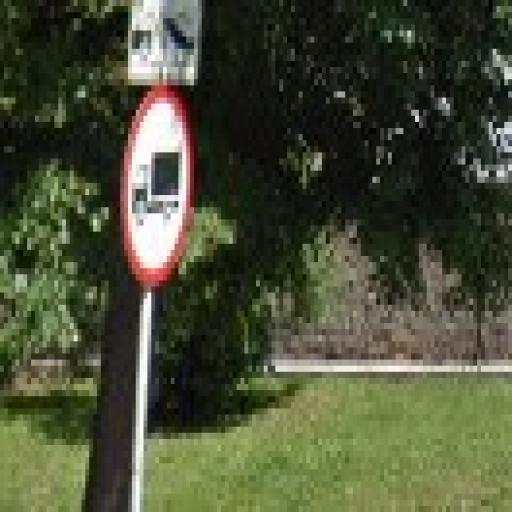traffic_sign: (121, 87, 195, 294)
